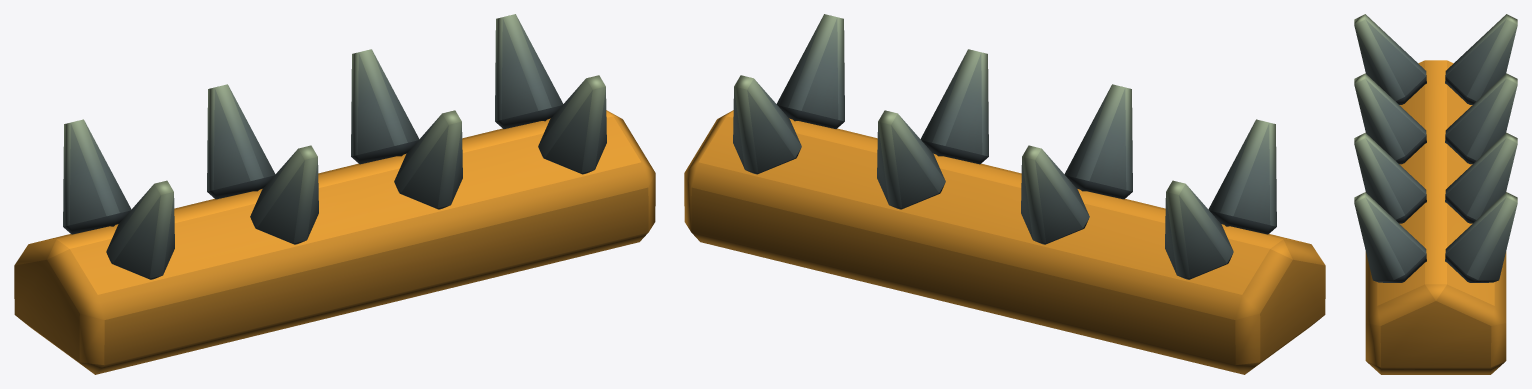
Rendered from road_spikes.fbx.
3 renders of one model, left to right at view 1: azimuth 30°, elevation 25°; view 2: azimuth 150°, elevation 25°; view 3: azimuth 270°, elevation 25°, orthographic. The views are drawn at different scales.
Parts seen in each view (by area): view 1: road_spikes; view 2: road_spikes; view 3: road_spikes.
Boxes of the visible parts, bbox=[...] form: road_spikes: bbox=[14, 14, 655, 374]; road_spikes: bbox=[684, 14, 1325, 374]; road_spikes: bbox=[1354, 14, 1517, 374].
Size of the model in its own units: 200 by 61.71 by 58.26.
